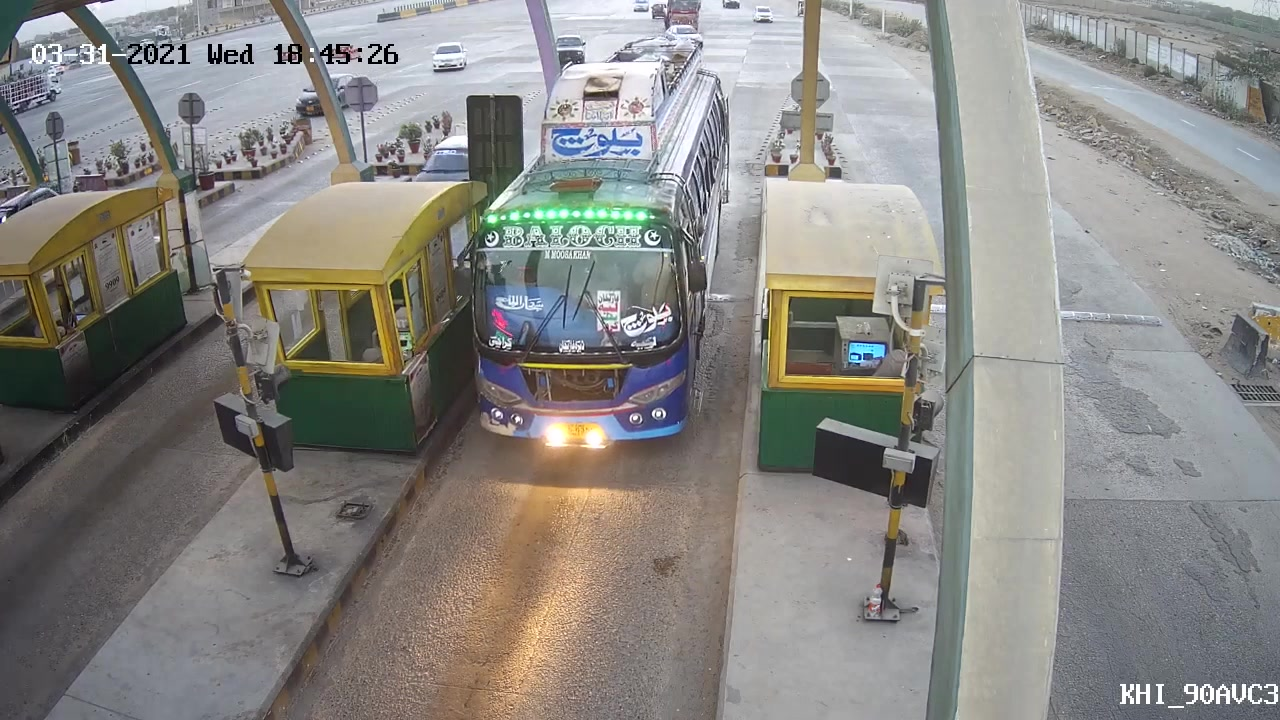F3: (436, 188, 723, 471)
